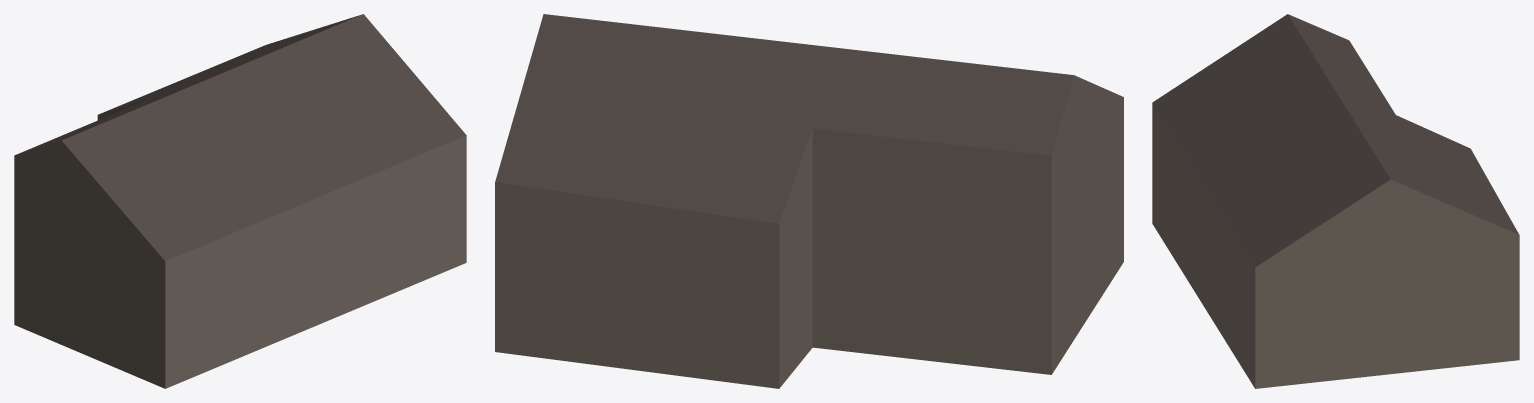
3 renders of one model, left to right at view 1: azimuth 30°, elevation 25°; view 2: azimuth 150°, elevation 25°; view 3: azimuth 270°, elevation 25°, orthographic. The views are drawn at different scales.
Visible parts, largest first — view 1: HP-w1198723273; view 2: HP-w1198723273; view 3: HP-w1198723273.
Part boxes in pixels (x1,y1,x2,y2): HP-w1198723273: (14, 14, 466, 388); HP-w1198723273: (495, 14, 1123, 388); HP-w1198723273: (1152, 14, 1519, 388).
Size of the model in its own units: 19.83 by 9.62 by 16.43.
